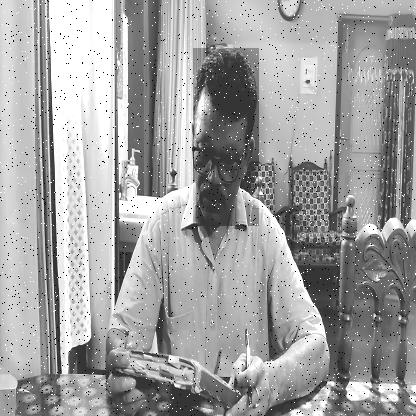Normal: (193, 48, 259, 226)
